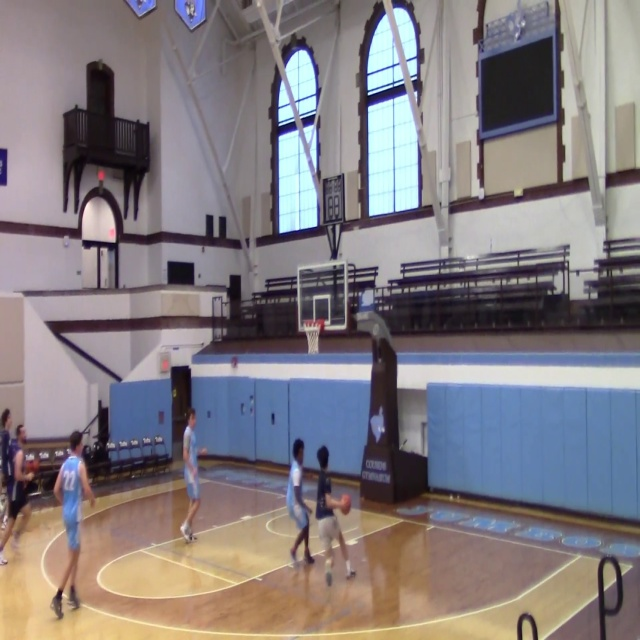Basketball: (340, 494, 351, 515)
